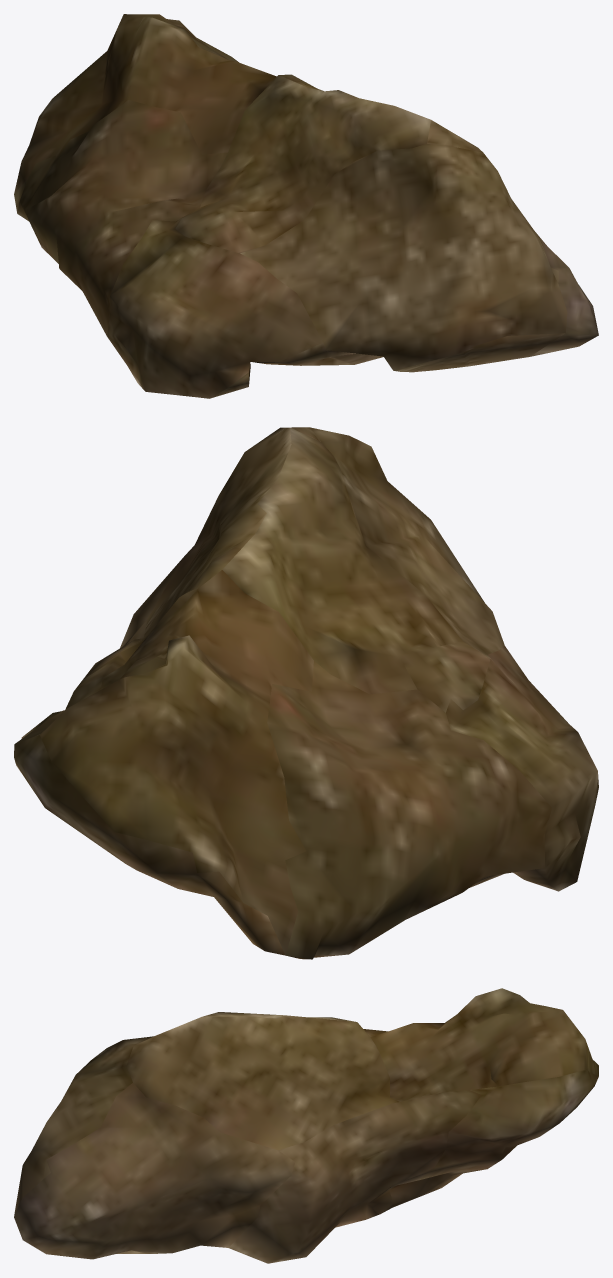
Rendered from moss_rock_1.glb.
3 views of the same model, one above another, from view 1: azimuth 30°, elevation 25°; view 2: azimuth 150°, elevation 25°; view 3: azimuth 270°, elevation 25° (orthographic). The views are drawn at different scales.
Parts seen in each view (by area): view 1: rock_moss_set_01_rock01; view 2: rock_moss_set_01_rock01; view 3: rock_moss_set_01_rock01.
Part boxes in pixels (x1=…): rock_moss_set_01_rock01: x1=14, y1=14, x2=598, y2=398; rock_moss_set_01_rock01: x1=14, y1=427, x2=598, y2=959; rock_moss_set_01_rock01: x1=14, y1=988, x2=598, y2=1263.
Size of the model in its own units: 2.24 by 1.46 by 3.36.
Materials: 1 (1 with a texture image).
